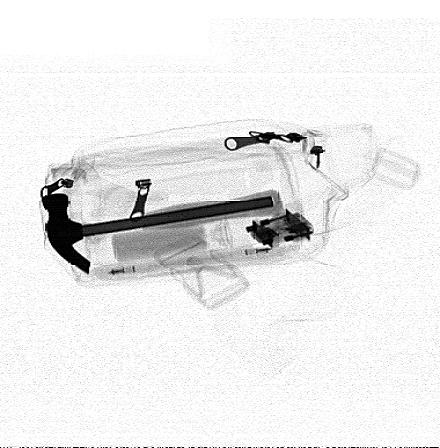Hammer: (41, 188, 285, 275)
